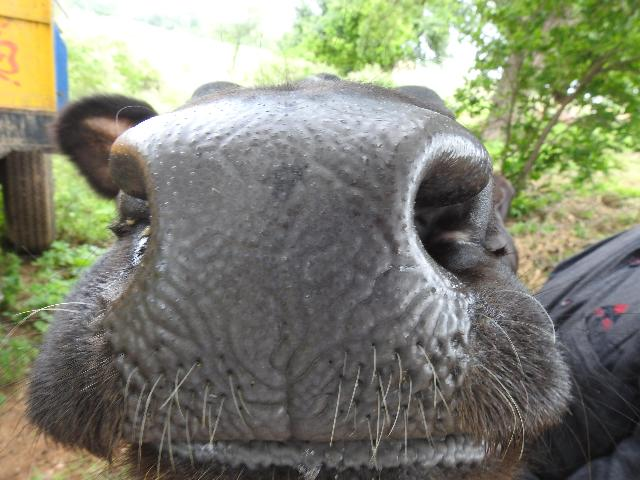Muzzle: (154, 117, 412, 429)
